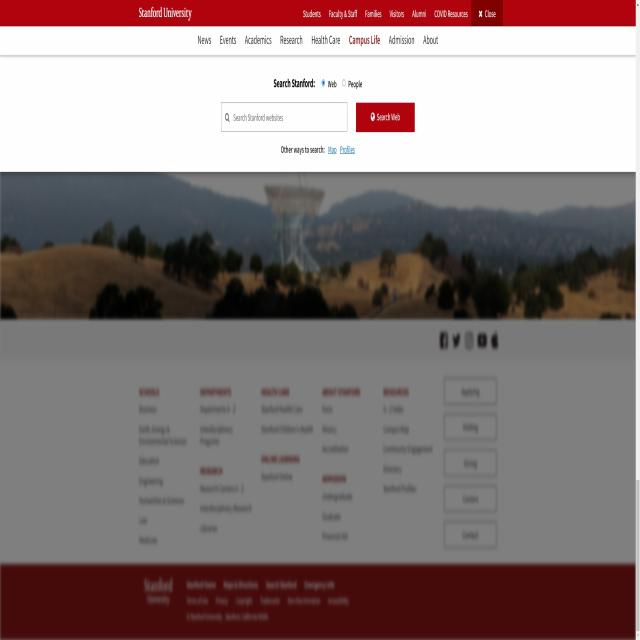menu-bar: (298, 0, 504, 26)
search: (219, 100, 417, 138)
tab-bar: (192, 28, 444, 54)
